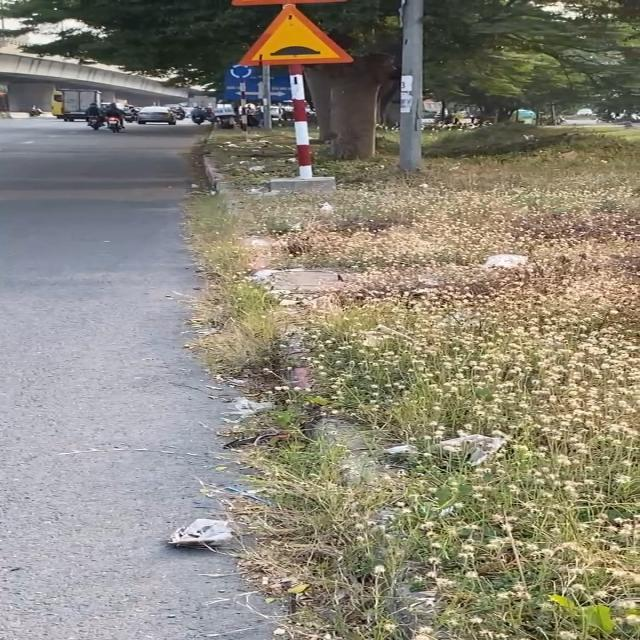221-duong-go-ghe: (237, 6, 353, 66)
303-noi-giao-nhau-chay-theo-vong-xuyen: (228, 63, 254, 81)
